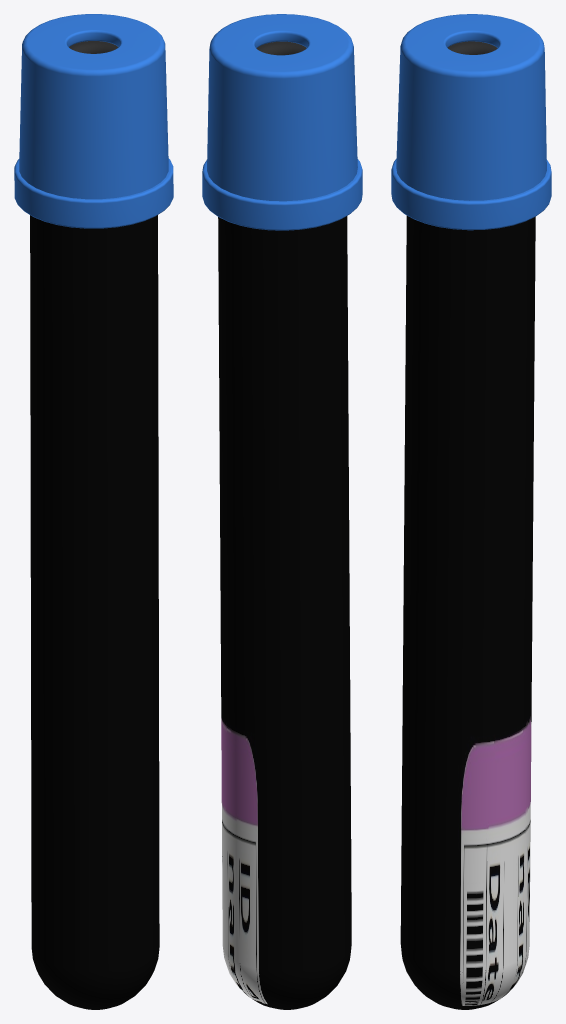
Rendered from revolutionizing_blood_testing_the_3d_blood_tub.glb.
The picture shows the model from 3 angles, left to right: view 1: azimuth 30°, elevation 25°; view 2: azimuth 150°, elevation 25°; view 3: azimuth 270°, elevation 25°; orthographic projection.
Parts seen in each view (by area): view 1: Cylinder.025_21; view 2: Cylinder.025_21; view 3: Cylinder.025_21.
Boxes of the visible parts, box(x1,y1,x2,y2) form: Cylinder.025_21: box(14, 14, 173, 1009); Cylinder.025_21: box(202, 14, 362, 1009); Cylinder.025_21: box(391, 14, 551, 1009).
Bounding box in the file's own units: 0.0162 × 0.107 × 0.0162.
4 materials, 1 textured.
